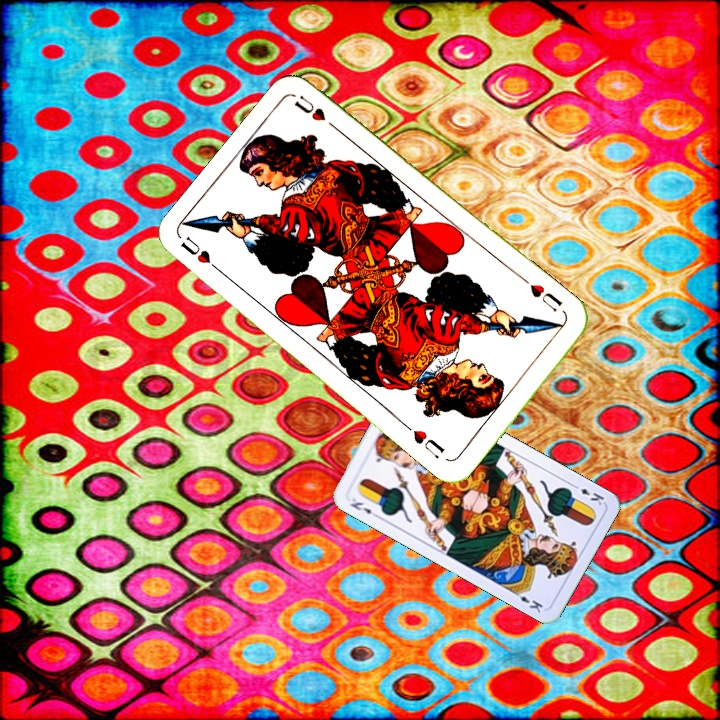EK: (568, 480, 607, 508), (346, 494, 381, 521)
HU: (177, 232, 227, 277), (525, 280, 565, 315)
